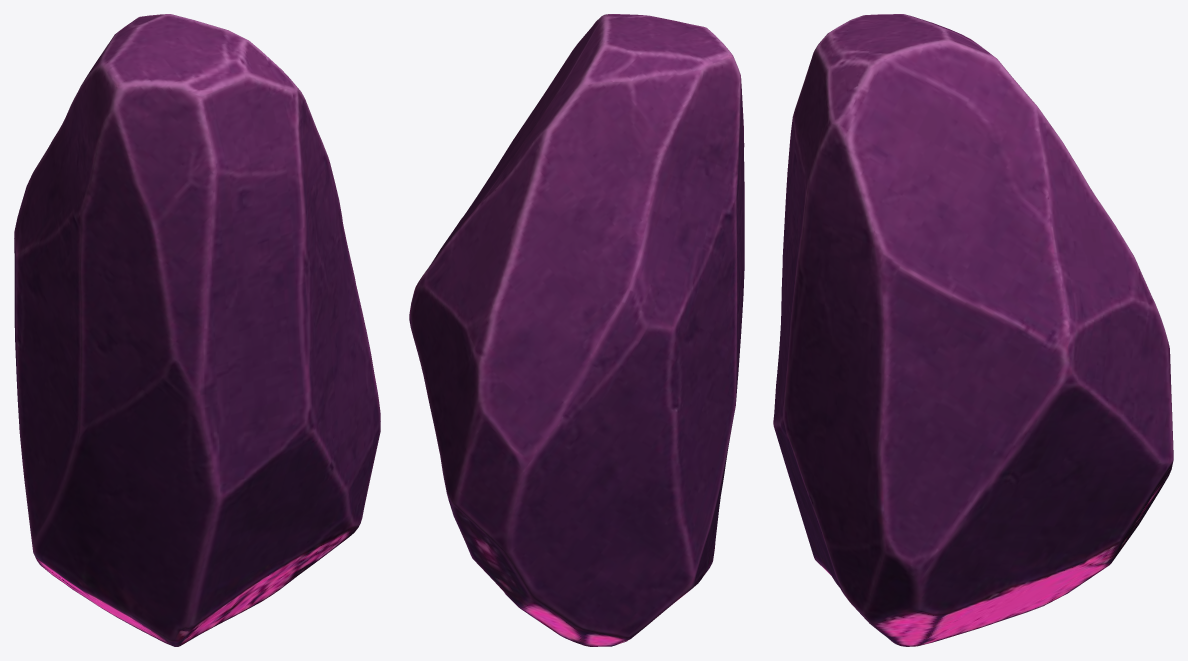
The model's file is sky_boulder_e_chaos_v35.glb.
The picture shows the model from 3 angles, left to right: view 1: azimuth 30°, elevation 25°; view 2: azimuth 150°, elevation 25°; view 3: azimuth 270°, elevation 25°; orthographic projection. The views are drawn at different scales.
Visible parts, largest first — view 1: boulder_e; view 2: boulder_e; view 3: boulder_e.
Part boxes in pixels (x1,y1,x2,y2): boulder_e: (14, 14, 380, 646); boulder_e: (409, 14, 744, 646); boulder_e: (773, 14, 1173, 646).
Bounding box in the file's own units: 7.62 × 14.32 × 9.02.
1 material, 1 textured.
